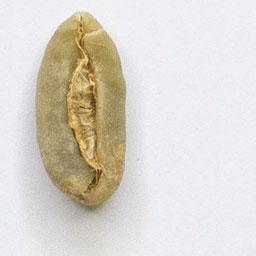longberry: (31, 7, 131, 210)
